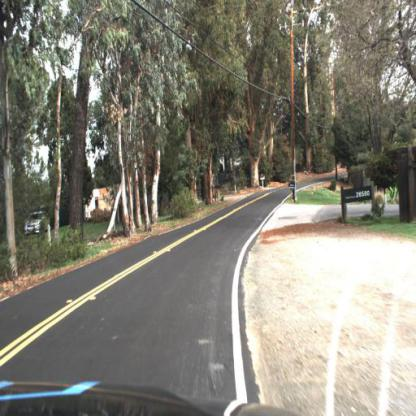car: (23, 205, 53, 238)
